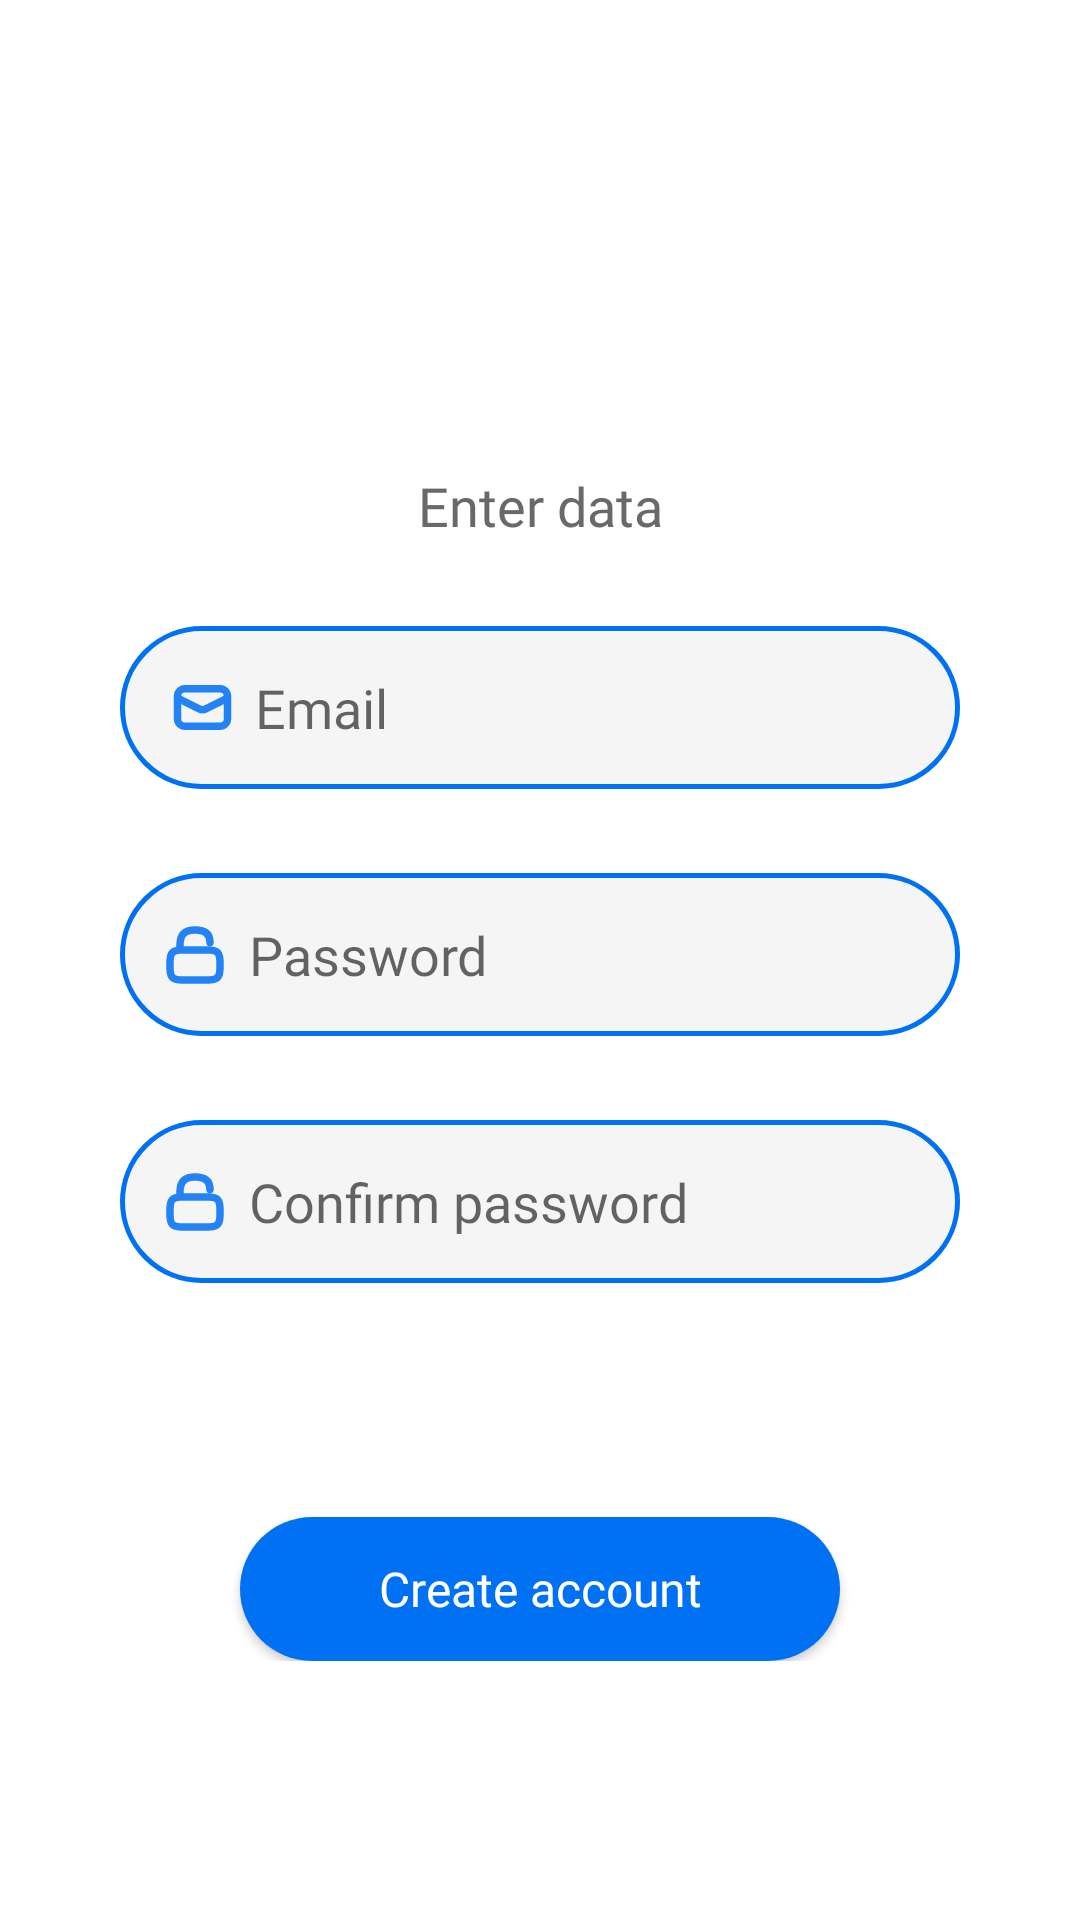

Named icons in this screenshot (1080px×1920px) and their centers, (x=x, y=y):
lock: (x=195, y=955), (x=195, y=1202)
message: (x=202, y=707)
